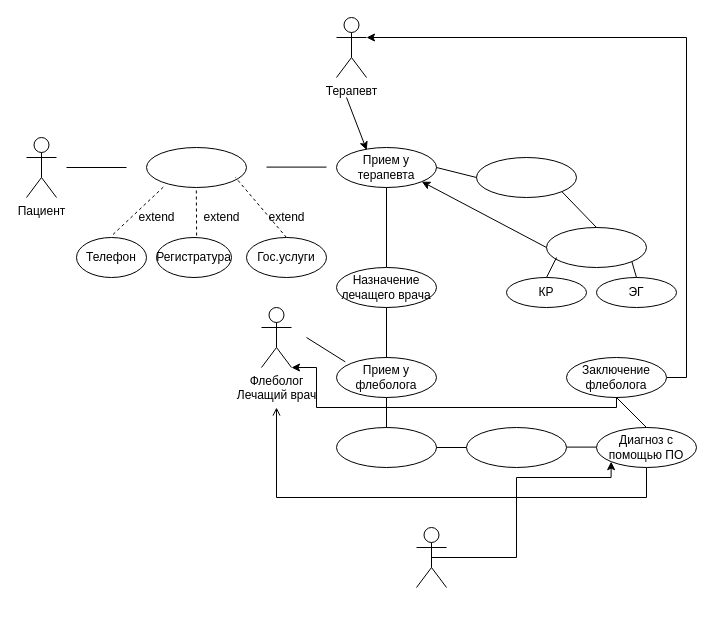
This 714x626 diagram has some shape labels left out. The shapes that lost their labels are listed below. From the top down, each one's centre as x and y in pixels, then its label:
pixel 196 167: Запись на прием к терапевту
pixel 526 177: Назначение анализов
pixel 596 247: Сдача анализов
pixel 386 447: Обследование
pixel 516 447: Первичная диагностика
pixel 431 557: Система
